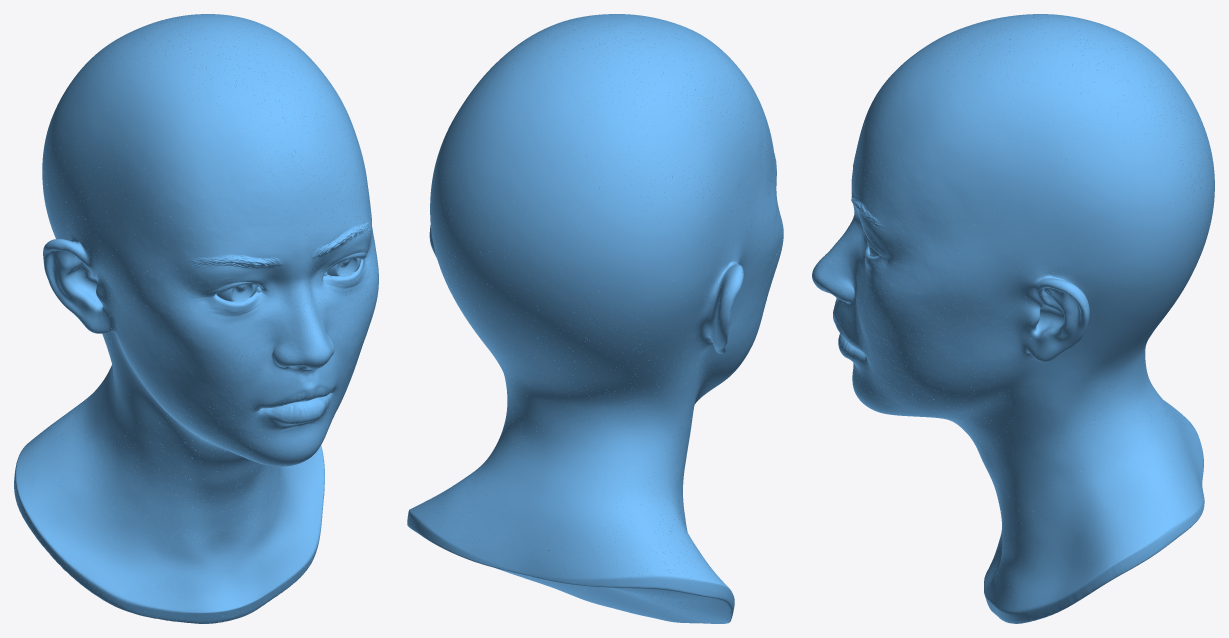
File: 石膏头像_女中青年_04_opt.glb
3 renders of one model, left to right at view 1: azimuth 30°, elevation 25°; view 2: azimuth 150°, elevation 25°; view 3: azimuth 270°, elevation 25°, orthographic. The views are drawn at different scales.
Parts seen in each view (by area): view 1: material_0_6, material_0_4, material_0_8, material_0_2, material_0_10, material_0_14, material_0_16, material_0_12, material_0, material_0_1, material_0_7, material_0_18 (+8 smaller); view 2: material_0_4, material_0_8, material_0_6, material_0_12, material_0_14, material_0_16, material_0_10, material_0, material_0_2, material_0_1, material_0_5, material_0_18 (+8 smaller); view 3: material_0_6, material_0_2, material_0_12, material_0_14, material_0_4, material_0_10, material_0_16, material_0_8, material_0, material_0_1, material_0_7, material_0_3 (+8 smaller).
Part boxes in pixels (x1,y1,x2,y2): material_0_6: [14, 15, 375, 599]; material_0_4: [16, 14, 375, 606]; material_0_8: [17, 14, 358, 618]; material_0_2: [14, 55, 368, 622]; material_0_10: [15, 15, 370, 620]; material_0_14: [15, 14, 375, 623]; material_0_16: [15, 14, 378, 623]; material_0_12: [21, 14, 378, 599]; material_0: [15, 14, 378, 623]; material_0_1: [18, 16, 378, 623]; material_0_7: [18, 30, 372, 599]; material_0_18: [14, 20, 375, 621]; material_0_4: [407, 14, 778, 618]; material_0_8: [430, 41, 776, 623]; material_0_6: [410, 29, 783, 599]; material_0_12: [429, 15, 783, 607]; material_0_14: [430, 14, 783, 622]; material_0_16: [407, 14, 783, 623]; material_0_10: [415, 24, 770, 623]; material_0: [412, 14, 783, 623]; material_0_2: [421, 14, 778, 623]; material_0_1: [411, 14, 778, 621]; material_0_5: [408, 14, 774, 617]; material_0_18: [415, 15, 781, 622]; material_0_6: [814, 20, 1213, 543]; material_0_2: [838, 56, 1204, 623]; material_0_12: [823, 14, 1213, 623]; material_0_14: [821, 14, 1214, 621]; material_0_4: [812, 16, 1214, 603]; material_0_10: [831, 14, 1202, 621]; material_0_16: [818, 14, 1212, 623]; material_0_8: [812, 14, 1214, 566]; material_0: [814, 14, 1214, 622]; material_0_1: [817, 17, 1213, 618]; material_0_7: [815, 25, 1213, 542]; material_0_3: [847, 69, 1203, 620].
Size of the model in its own units: 0.163 by 0.3 by 0.191.
